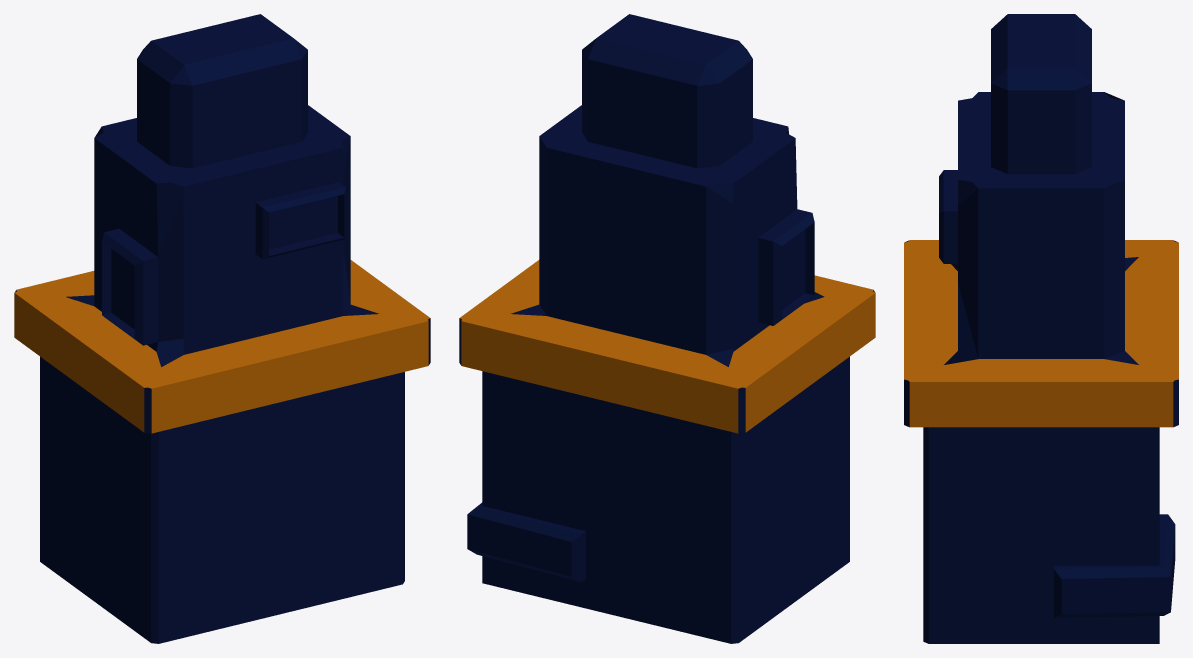
File: Building_3.fbx
3 views of the same model, side by side, from view 1: azimuth 30°, elevation 25°; view 2: azimuth 150°, elevation 25°; view 3: azimuth 270°, elevation 25° (orthographic).
Visible parts, largest first — view 1: Cube.007, Cube.008; view 2: Cube.007, Cube.008; view 3: Cube.007.
Part boxes in pixels (x1,y1,x2,y2): Cube.007: [14, 14, 430, 643]; Cube.008: [111, 195, 337, 329]; Cube.007: [459, 14, 875, 643]; Cube.008: [782, 229, 805, 309]; Cube.007: [904, 14, 1178, 643].
Size of the model in its own units: 1126 by 1999 by 922.
